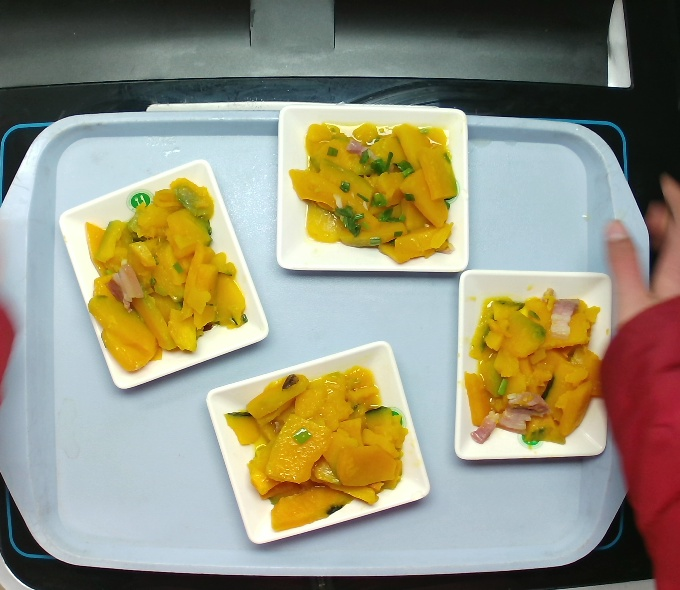wcq-NanGuaChaoLaRou: (83, 176, 247, 375), (221, 366, 410, 532), (289, 120, 459, 264), (462, 287, 606, 449)
